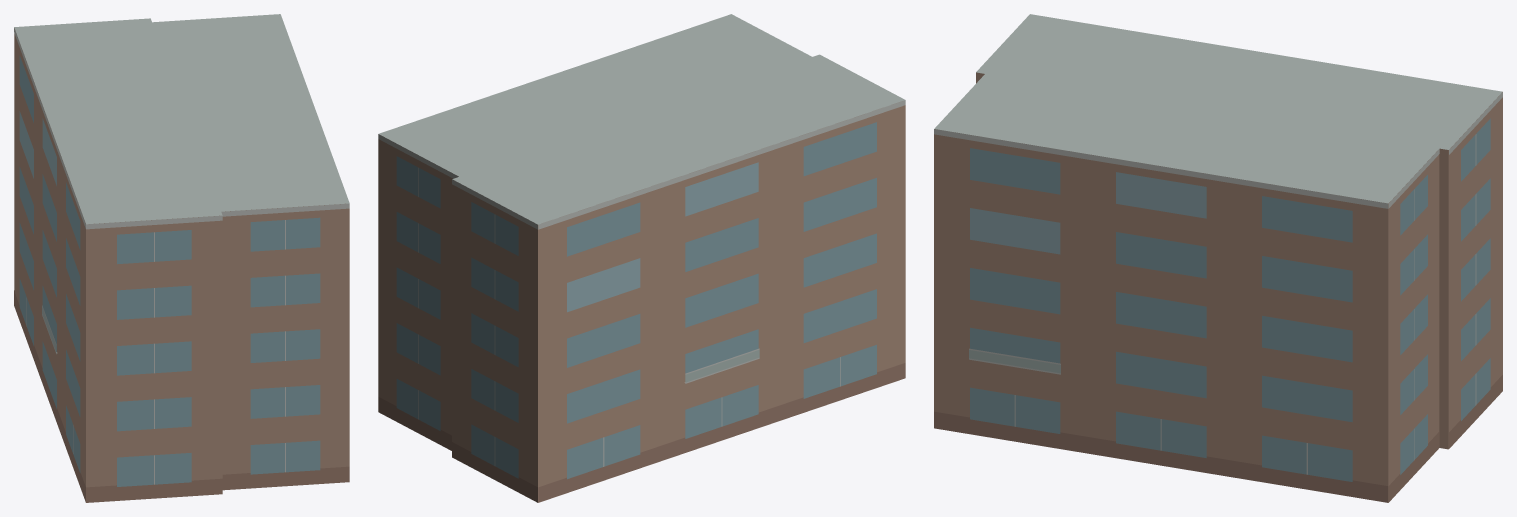
File: survey-upis-32876954.glb
3 renders of one model, left to right at view 1: azimuth 30°, elevation 25°; view 2: azimuth 150°, elevation 25°; view 3: azimuth 270°, elevation 25°, orthographic. The views are drawn at different scales.
Parts seen in each view (by area): view 1: survey-upis-32876954.tmp; view 2: survey-upis-32876954.tmp; view 3: survey-upis-32876954.tmp.
Boxes of the visible parts, x1,y1,x2,y2 form: survey-upis-32876954.tmp: (14, 14, 349, 502); survey-upis-32876954.tmp: (378, 14, 905, 502); survey-upis-32876954.tmp: (934, 14, 1502, 502).
Size of the model in its own units: 18.13 by 13.35 by 22.99.
